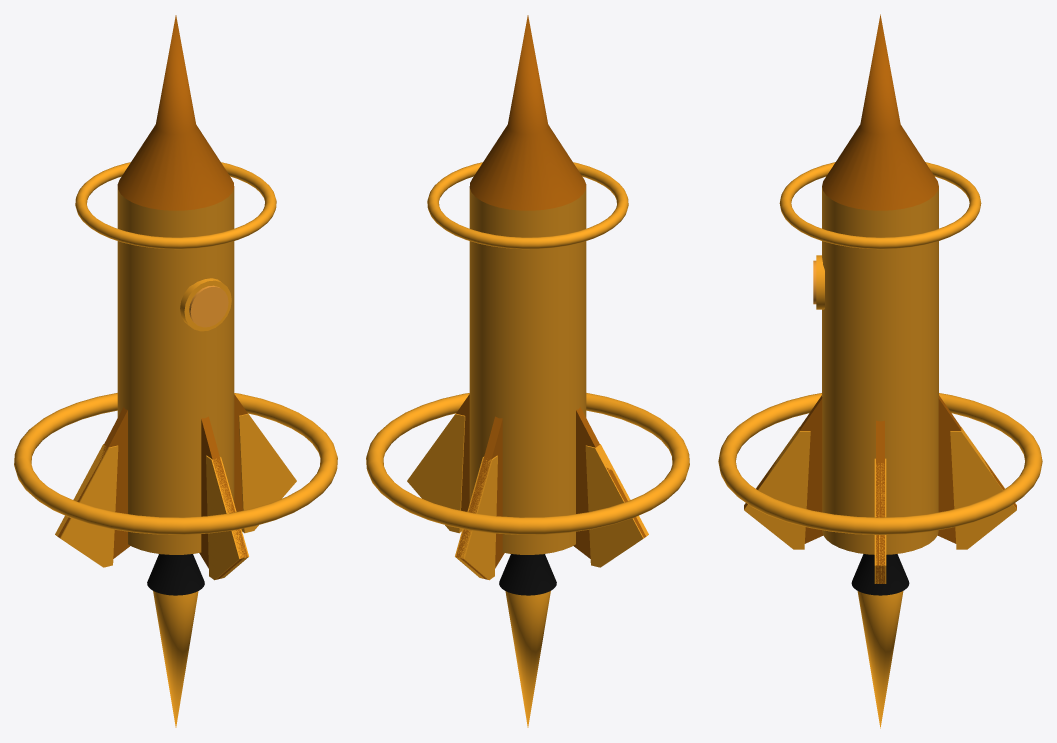
Rendered from Rocket_37_SolarCrown.obj.
3 views of the same model, side by side, from view 1: azimuth 30°, elevation 25°; view 2: azimuth 150°, elevation 25°; view 3: azimuth 270°, elevation 25° (orthographic).
Parts seen in each view (by area): view 1: R37_Body, R37_Halo_1, R37_Nose, R37_Halo_2, R37_FinGlow_2, R37_FinGlow_4, R37_Flame_1, R37_FinGlow_3, R37_Nozzle_1, R37_Fin_3, R37_Fin_2, R37_Window_1 (+2 smaller); view 2: R37_Body, R37_Halo_1, R37_Nose, R37_Halo_2, R37_FinGlow_2, R37_FinGlow_4, R37_Flame_1, R37_FinGlow_1, R37_Fin_1, R37_Fin_2, R37_Nozzle_1, R37_Fin_4; view 3: R37_Body, R37_Halo_1, R37_Nose, R37_Halo_2, R37_FinGlow_3, R37_FinGlow_1, R37_Flame_1, R37_Fin_3, R37_Fin_1, R37_Nozzle_1, R37_Fin_4, R37_FinGlow_4.
Boxes of the visible parts, <box> form: R37_Body: <box>117,186,234,554</box>; R37_Halo_1: <box>14,393,337,534</box>; R37_Nose: <box>117,15,234,210</box>; R37_Halo_2: <box>75,162,276,249</box>; R37_FinGlow_2: <box>55,444,118,567</box>; R37_FinGlow_4: <box>238,413,296,533</box>; R37_Flame_1: <box>153,591,198,727</box>; R37_FinGlow_3: <box>206,455,248,580</box>; R37_Nozzle_1: <box>147,554,204,595</box>; R37_Fin_3: <box>199,416,247,579</box>; R37_Fin_2: <box>57,407,130,558</box>; R37_Window_1: <box>189,285,228,327</box>; R37_Body: <box>469,186,586,554</box>; R37_Halo_1: <box>366,393,689,534</box>; R37_Nose: <box>469,15,586,210</box>; R37_Halo_2: <box>427,162,628,249</box>; R37_FinGlow_2: <box>585,444,648,567</box>; R37_FinGlow_4: <box>407,413,465,533</box>; R37_Flame_1: <box>505,591,550,727</box>; R37_FinGlow_1: <box>455,455,497,580</box>; R37_Fin_1: <box>456,416,504,579</box>; R37_Fin_2: <box>573,407,646,558</box>; R37_Nozzle_1: <box>499,554,556,595</box>; R37_Fin_4: <box>456,394,469,511</box>; R37_Body: <box>822,187,938,554</box>; R37_Halo_1: <box>718,393,1042,534</box>; R37_Nose: <box>822,14,938,210</box>; R37_Halo_2: <box>779,162,981,249</box>; R37_FinGlow_3: <box>744,427,810,549</box>; R37_FinGlow_1: <box>950,427,1016,549</box>; R37_Flame_1: <box>857,591,903,728</box>; R37_Fin_3: <box>744,395,823,543</box>; R37_Fin_1: <box>937,395,1016,543</box>; R37_Nozzle_1: <box>851,554,909,595</box>; R37_Fin_4: <box>876,420,884,583</box>; R37_FinGlow_4: <box>874,458,886,583</box>.
Size of the model in its own units: 4.44 by 10.8 by 4.44.
